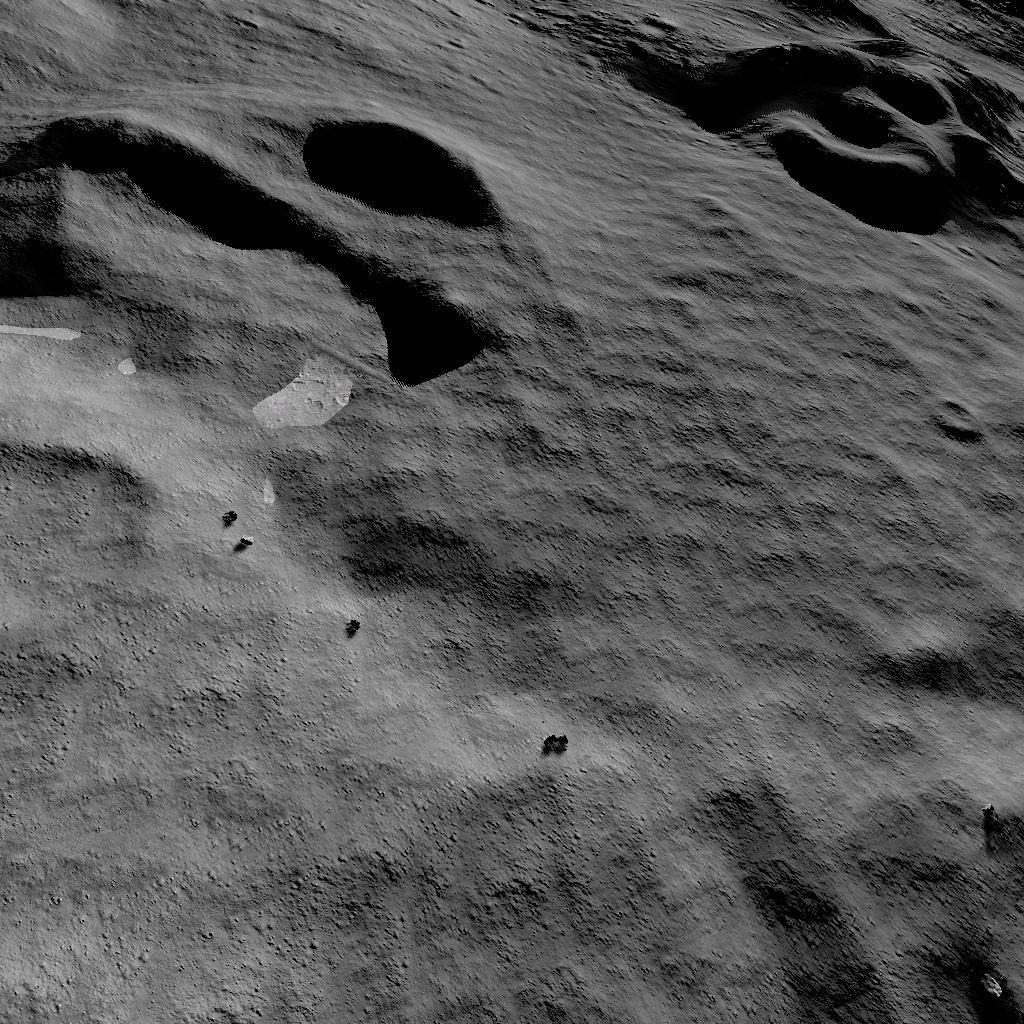Crater: (0, 100, 522, 420), (577, 0, 1024, 239), (0, 452, 168, 649), (928, 392, 996, 440)
Plan surface: (7, 668, 524, 1024), (591, 287, 909, 806), (547, 820, 893, 1024)
